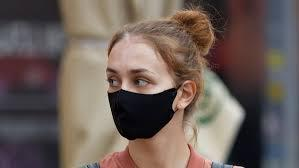mask: (102, 84, 182, 146)
